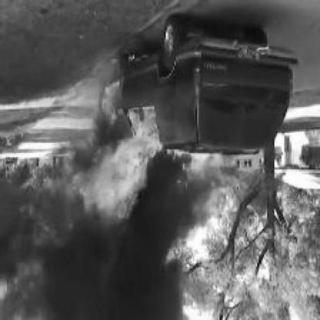Fire: (92, 87, 230, 231)
Smoke: (3, 162, 200, 320)
